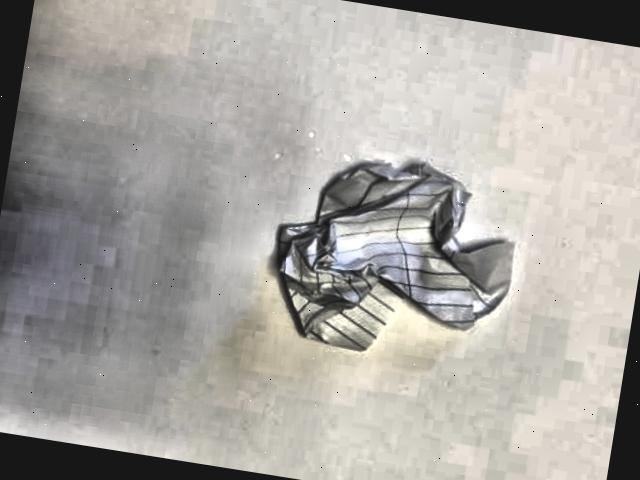Paper: (220, 111, 550, 448)
